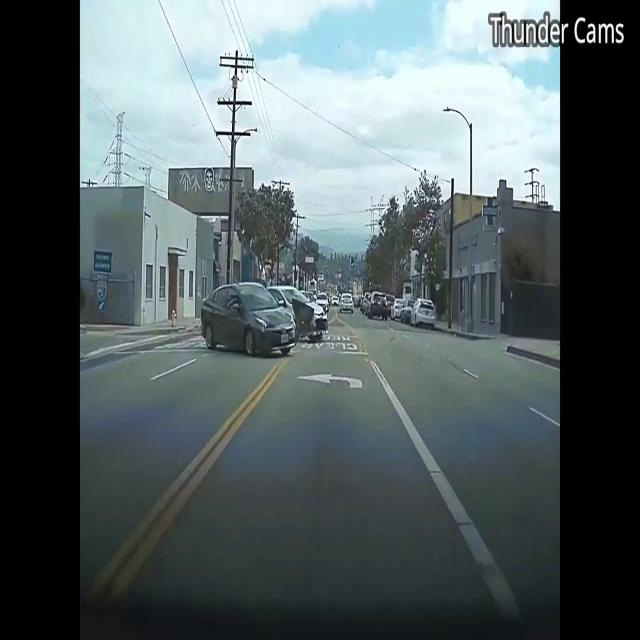accident: (199, 269, 331, 372)
